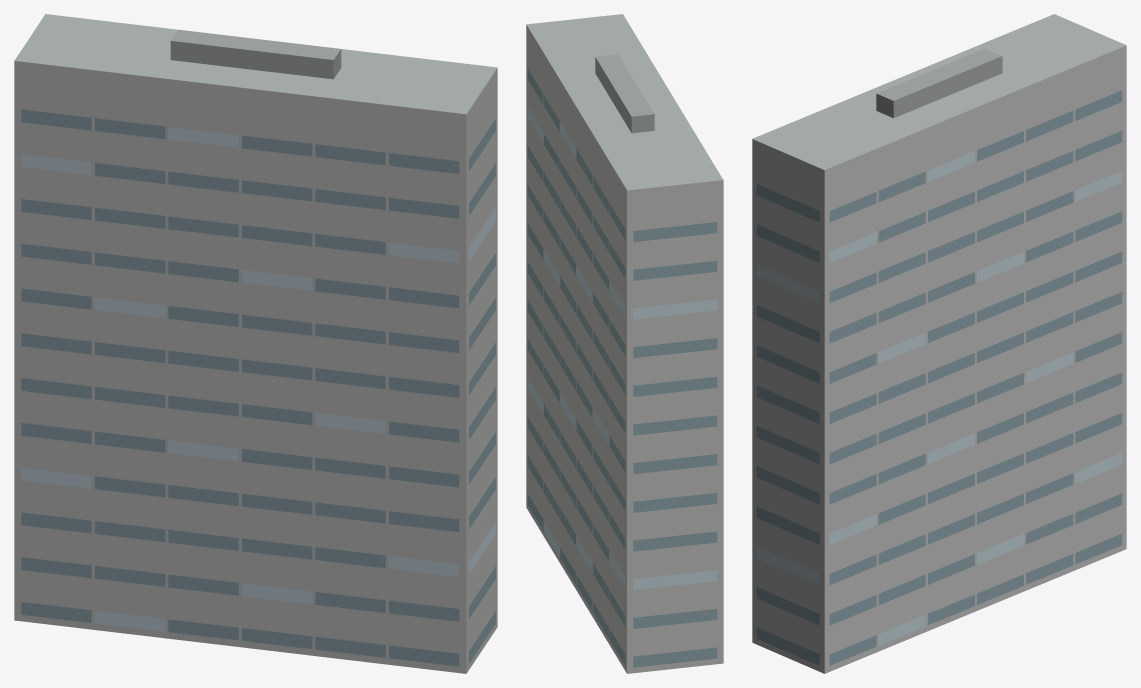
Rendered from fallback-gwanak-dream-town-126.glb.
The picture shows the model from 3 angles, left to right: view 1: azimuth 30°, elevation 25°; view 2: azimuth 150°, elevation 25°; view 3: azimuth 270°, elevation 25°; orthographic projection. The views are drawn at different scales.
Visible parts, largest first — view 1: fallback-gwanak-dream-town-126; view 2: fallback-gwanak-dream-town-126; view 3: fallback-gwanak-dream-town-126.
Boxes of the visible parts, box(x1,y1,x2,y2) form: fallback-gwanak-dream-town-126: box(14, 14, 497, 673); fallback-gwanak-dream-town-126: box(526, 14, 723, 673); fallback-gwanak-dream-town-126: box(752, 14, 1126, 673).
Bounding box in the file's own units: 46.29 × 72 × 46.91.
